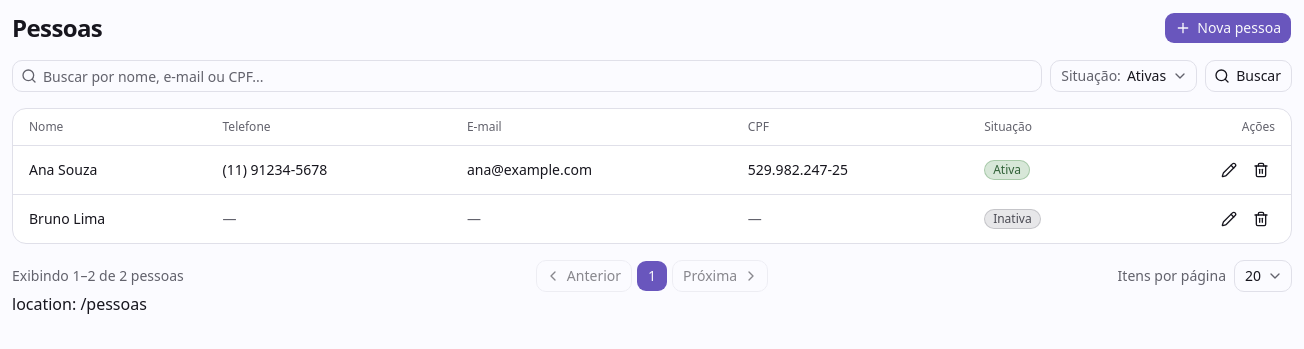
Scenario: ClientListPage › names the search term, and offers to clear it, when a search finds nobody
Expected: the link "Ana Souza" is shown, [29,160,97,179]
Type "zzz" into the field named "Buscar pessoas por nome, e-mail ou CPF". click: (539, 76)
box: [37,60,1041,92]
Then press Enter
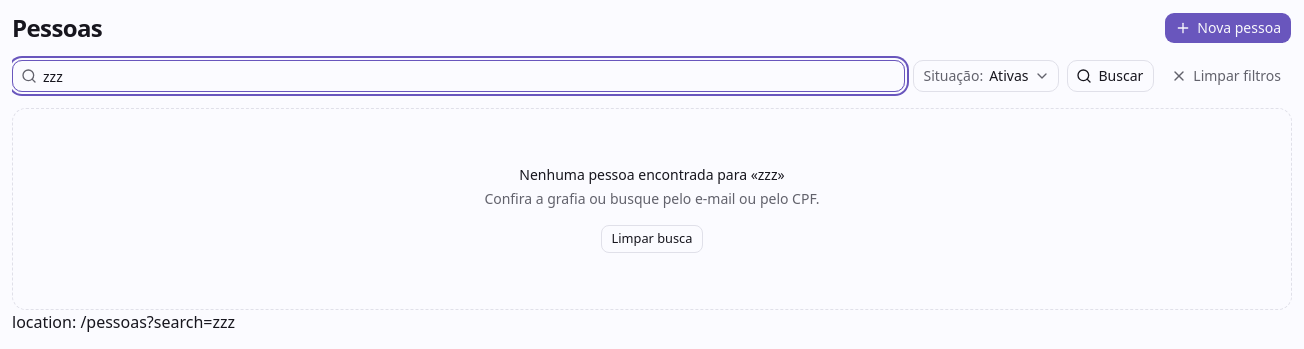
Expected: the text "Nenhuma pessoa encontrada para «zzz»" is shown, [519,165,785,184]
Expected: the button "Limpar busca" is shown, [601,225,704,253]
